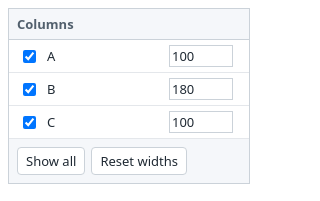
Scenario: LatticaColumnSettings › resets customized widths with the footer action
The image size is (320, 201).
Click the button with test id "lattica-colsettings-resetwidths" at (139, 161), box x1=91 y1=147 x2=187 y2=175
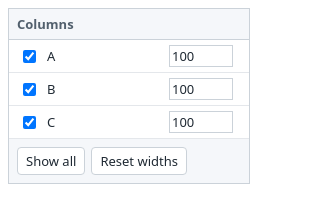
expect the number field with test id "lattica-colsettings-width-1" holds "100": met, box x1=169 y1=78 x2=233 y2=100
